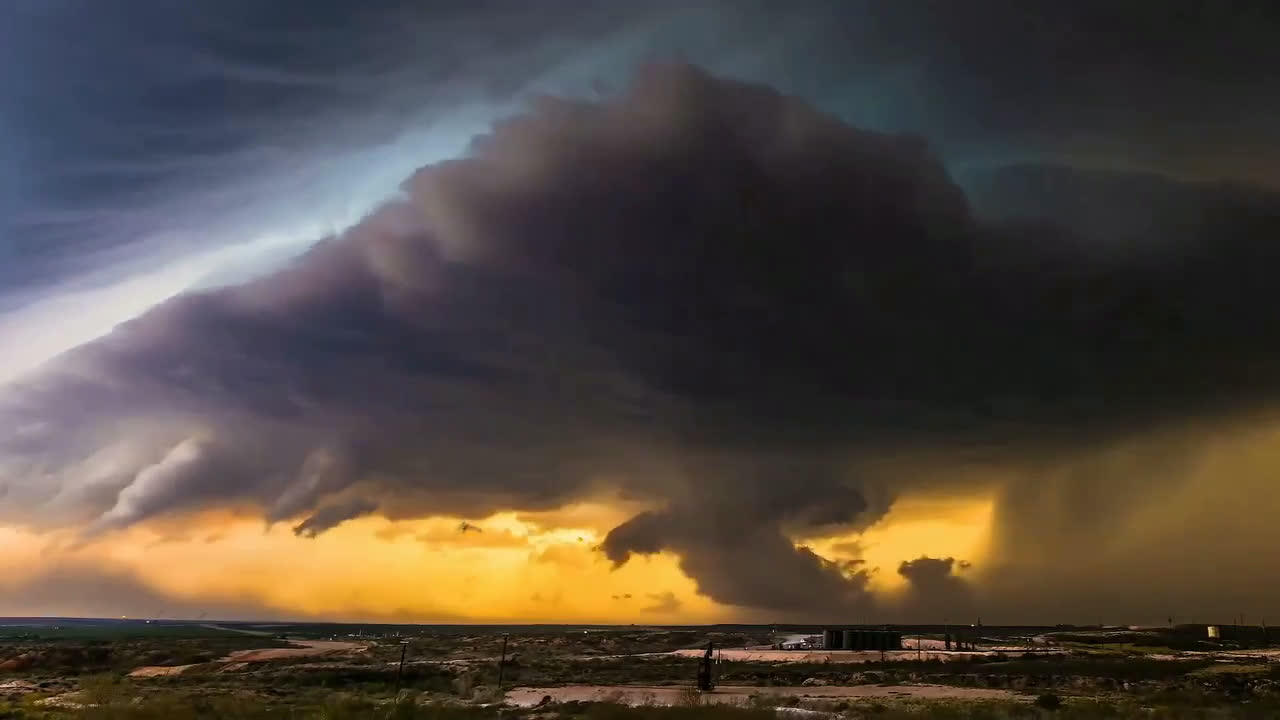RFD: (738, 420, 1278, 626)
mesocyclone: (306, 0, 1278, 521)
striations: (33, 189, 757, 420)
wall cloud: (6, 65, 1277, 598)
